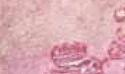plaque psoriasis: (0, 39, 105, 74), (104, 11, 125, 74), (112, 7, 125, 25)
